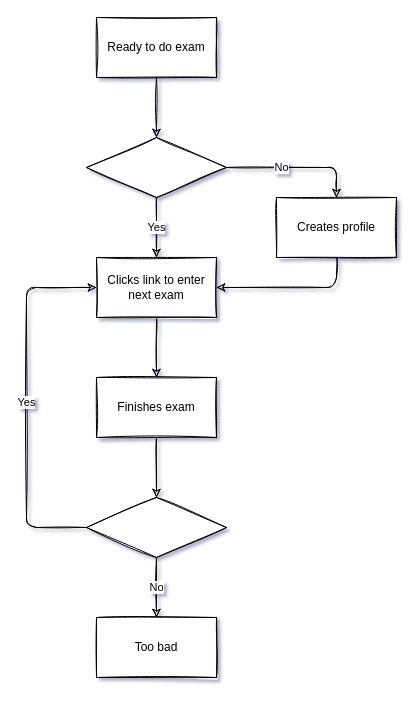
Image size: 420x701. Some labels were removed from this diagram. The centre of each missing label's shape, as x and y in pixels:
"Exam passed?" belongs at (156,527).
"Is profile created?" belongs at (156,167).
